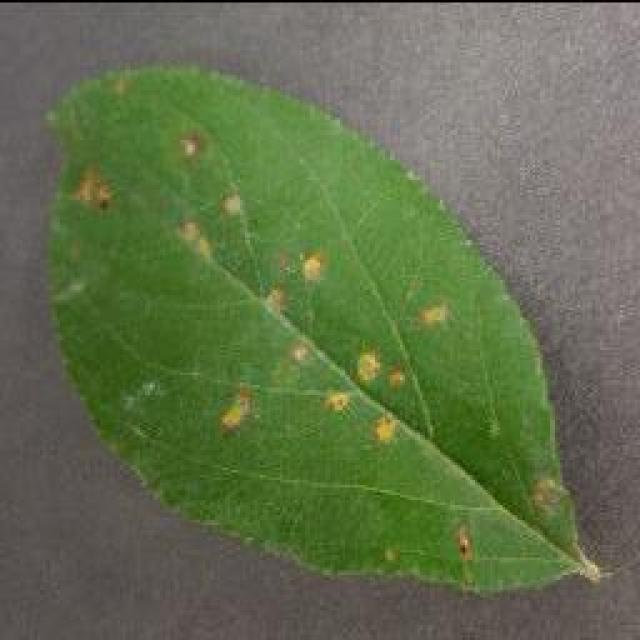apple healthy: (40, 60, 602, 595)
